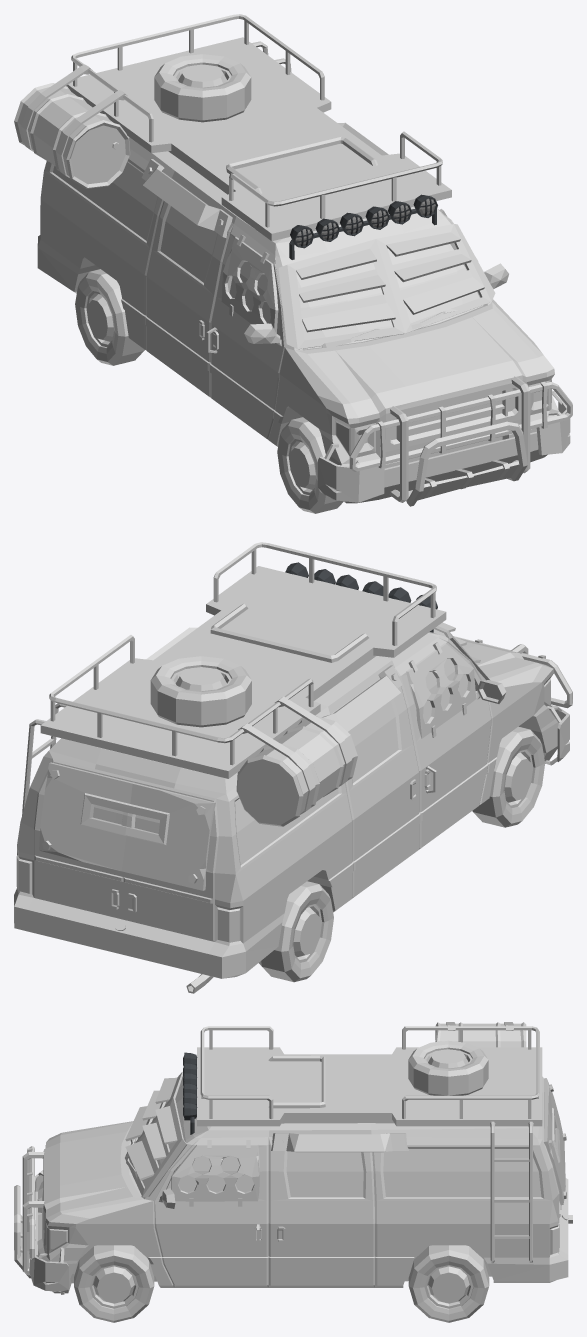
The model's file is car6.fbx.
3 views of the same model, one above another, from view 1: azimuth 30°, elevation 25°; view 2: azimuth 150°, elevation 25°; view 3: azimuth 270°, elevation 25° (orthographic). The views are drawn at different scales.
Parts seen in each view (by area): view 1: SM_Veh_NewsVan_01.001, SM_Veh_NewsVan_Top_01.001, SM_Veh_NewsVan_Armour_01.001, SM_Veh_NewsVan_Glass_Armour_01.001, SM_Veh_NewsVan_Wheel_fr.002, SM_Veh_NewsVan_Glass_01.001, SM_Veh_NewsVan_Wheel_rl.001, SM_Veh_NewsVan_Wheel_fr.001, SM_Veh_Attach_Lights_04; view 2: SM_Veh_NewsVan_01.001, SM_Veh_NewsVan_Top_01.001, SM_Veh_NewsVan_Armour_01.001, SM_Veh_NewsVan_Wheel_fr.002, SM_Veh_NewsVan_Door_r.001, SM_Veh_NewsVan_Door_l.001, SM_Veh_NewsVan_Wheel_rl.001, SM_Veh_NewsVan_Wheel_fr.001, SM_Veh_NewsVan_Glass_Armour_01.001, SM_Veh_Attach_Lights_04, SM_Veh_NewsVan_Glass_01.001; view 3: SM_Veh_NewsVan_01.001, SM_Veh_NewsVan_Top_01.001, SM_Veh_NewsVan_Armour_01.001, SM_Veh_NewsVan_Glass_Armour_01.001, SM_Veh_NewsVan_Wheel_rl1.001, SM_Veh_NewsVan_Wheel_fl.001, SM_Veh_NewsVan_Wheel_fr.002, SM_Veh_NewsVan_Glass_01.001, SM_Veh_Attach_Lights_04.
Boxes of the visible parts, x1,y1,x2,y2 form: SM_Veh_NewsVan_01.001: (37, 137, 558, 503); SM_Veh_NewsVan_Top_01.001: (66, 14, 451, 241); SM_Veh_NewsVan_Armour_01.001: (14, 64, 572, 506); SM_Veh_NewsVan_Glass_Armour_01.001: (221, 209, 495, 349); SM_Veh_NewsVan_Wheel_fr.002: (154, 54, 251, 122); SM_Veh_NewsVan_Glass_01.001: (229, 244, 483, 349); SM_Veh_NewsVan_Wheel_rl.001: (75, 269, 144, 365); SM_Veh_NewsVan_Wheel_fr.001: (277, 417, 343, 513); SM_Veh_Attach_Lights_04: (289, 194, 437, 259); SM_Veh_NewsVan_01.001: (14, 632, 558, 993); SM_Veh_NewsVan_Top_01.001: (22, 542, 446, 815); SM_Veh_NewsVan_Armour_01.001: (39, 627, 572, 890); SM_Veh_NewsVan_Wheel_fr.002: (150, 656, 251, 727); SM_Veh_NewsVan_Door_r.001: (123, 781, 216, 939); SM_Veh_NewsVan_Door_l.001: (34, 762, 133, 918); SM_Veh_NewsVan_Wheel_rl.001: (259, 881, 333, 982); SM_Veh_NewsVan_Wheel_fr.001: (472, 726, 545, 827); SM_Veh_NewsVan_Glass_Armour_01.001: (406, 622, 489, 738); SM_Veh_Attach_Lights_04: (285, 562, 437, 632); SM_Veh_NewsVan_Glass_01.001: (416, 658, 468, 722); SM_Veh_NewsVan_01.001: (37, 1076, 572, 1293); SM_Veh_NewsVan_Top_01.001: (197, 1026, 542, 1263); SM_Veh_NewsVan_Armour_01.001: (14, 1022, 566, 1294); SM_Veh_NewsVan_Glass_Armour_01.001: (125, 1071, 259, 1206); SM_Veh_NewsVan_Wheel_rl1.001: (408, 1245, 489, 1322); SM_Veh_NewsVan_Wheel_fl.001: (74, 1245, 154, 1322); SM_Veh_NewsVan_Wheel_fr.002: (408, 1040, 488, 1095); SM_Veh_NewsVan_Glass_01.001: (138, 1085, 253, 1192); SM_Veh_Attach_Lights_04: (183, 1052, 197, 1134).
Size of the model in its own units: 266 by 240 by 553.
